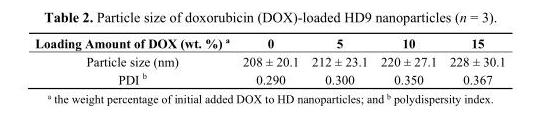table: (34, 34, 505, 86)
table column: (34, 34, 235, 86), (235, 34, 304, 86), (304, 34, 373, 86), (373, 34, 442, 86), (442, 34, 505, 86)
table column header: (34, 34, 505, 51)
table row: (34, 51, 505, 69), (34, 34, 505, 51), (34, 69, 505, 86)
